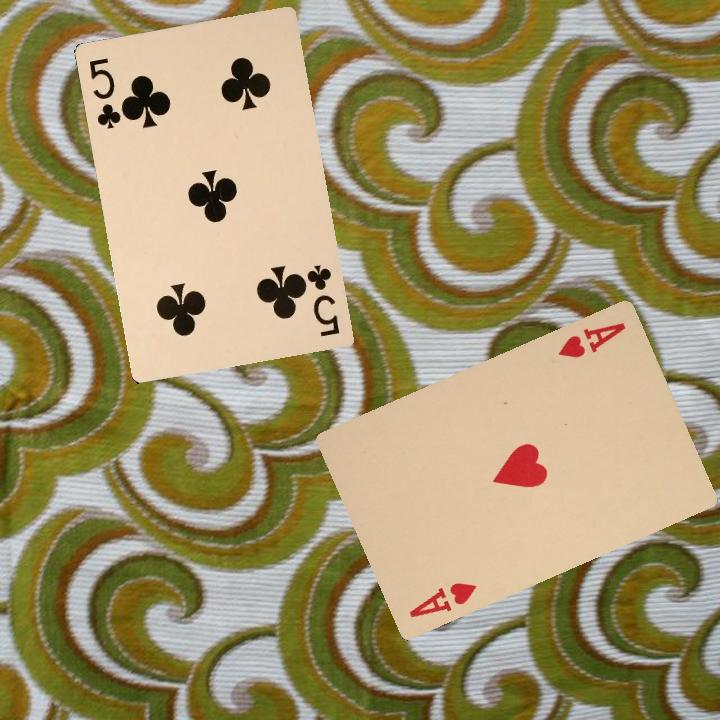5c: (85, 53, 129, 132), (303, 260, 343, 339)
Ah: (554, 318, 629, 361), (405, 578, 480, 620)
